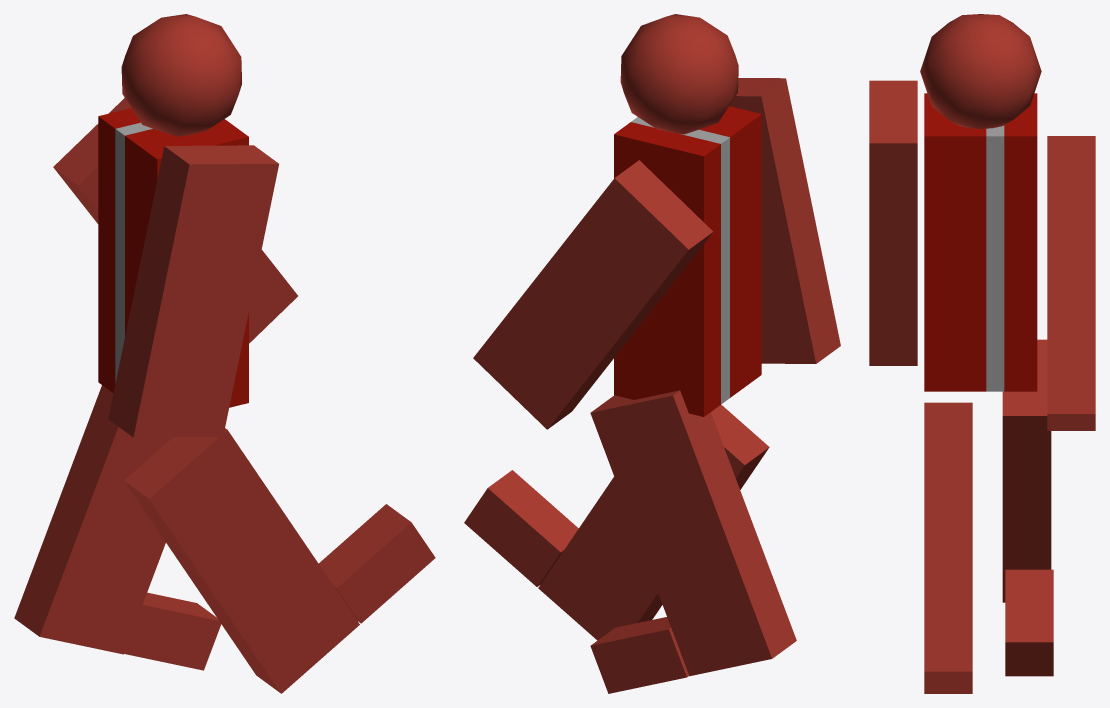
Rendered from player_000028.obj.
3 views of the same model, side by side, from view 1: azimuth 30°, elevation 25°; view 2: azimuth 150°, elevation 25°; view 3: azimuth 270°, elevation 25° (orthographic). The views are drawn at different scales.
Visible parts, largest first — view 1: Cube.013, Cube.010, Cube.008, Cube.007, Icosphere.001, Cube.011, Cube.009, Cube.012; view 2: Cube.008, Cube.007, Cube.012, Cube.013, Cube.010, Icosphere.001, Cube.011, Cube.009; view 3: Cube.007, Cube.012, Cube.013, Cube.010, Icosphere.001, Cube.008, Cube.009, Cube.011.
Part boxes in pixels (x1,y1,x2,y2): Cube.013: (108,145,278,437); Cube.010: (124,428,359,693); Cube.008: (14,385,172,654); Cube.007: (98,108,248,407); Icosphere.001: (121,14,241,136); Cube.011: (318,504,435,623); Cube.009: (124,592,221,670); Cube.012: (53,98,297,343); Cube.008: (590,390,796,676); Cube.007: (614,106,761,416); Cube.012: (473,160,713,429); Cube.013: (729,78,840,363); Cube.010: (538,404,769,640); Icosphere.001: (620,14,738,134); Cube.011: (464,470,578,586); Cube.009: (590,617,689,693); Cube.007: (924,93,1037,391); Cube.012: (1047,136,1095,430); Cube.013: (869,80,917,365); Cube.010: (924,402,972,693); Icosphere.001: (920,14,1041,128); Cube.008: (1002,339,1051,602); Cube.009: (1005,569,1053,676); Cube.011: (924,620,972,682).
Size of the model in its own units: 1.59 by 2.86 by 0.9137.
